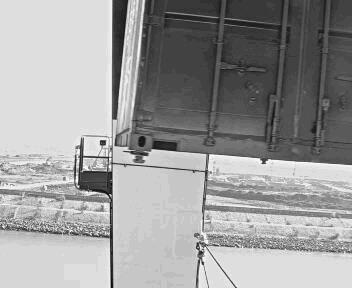twist_lock_1: (122, 148, 152, 168)
